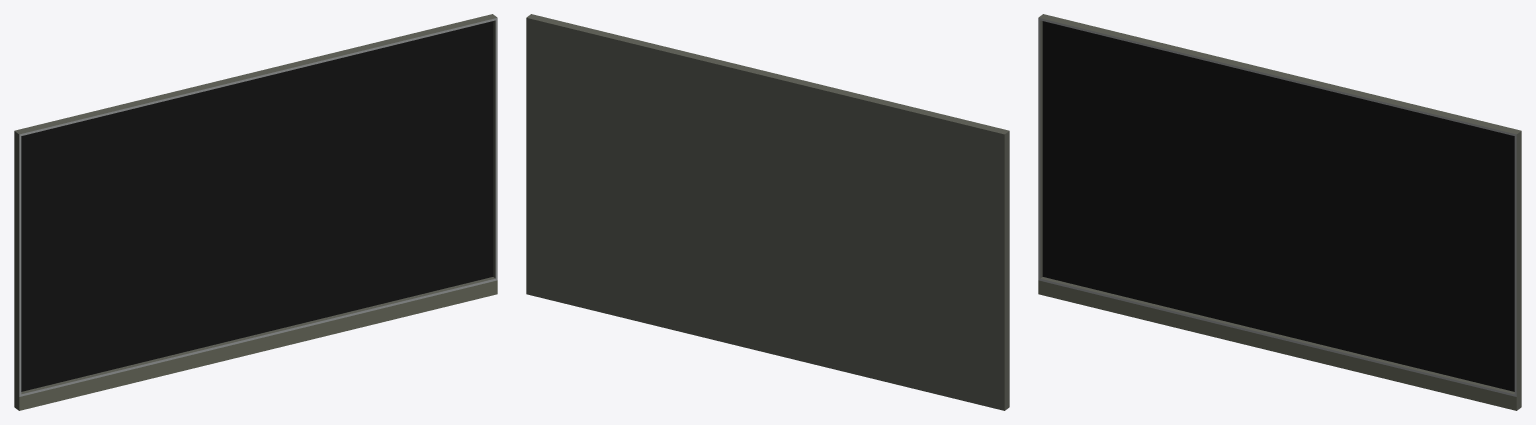
File: Screen.fbx
3 views of the same model, side by side, from view 1: azimuth 30°, elevation 25°; view 2: azimuth 150°, elevation 25°; view 3: azimuth 330°, elevation 25° (orthographic).
Parts seen in each view (by area): view 1: Cube; view 2: Cube; view 3: Cube.
Part boxes in pixels (x1=…): Cube: x1=14, y1=14, x2=497, y2=410; Cube: x1=526, y1=14, x2=1009, y2=410; Cube: x1=1038, y1=14, x2=1521, y2=410.
Size of the model in its own units: 12.05 by 6.65 by 0.2224.
